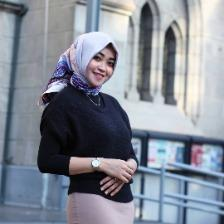Non Syar-i: (35, 31, 121, 105)
